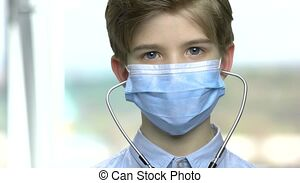surgical: (121, 59, 231, 134)
